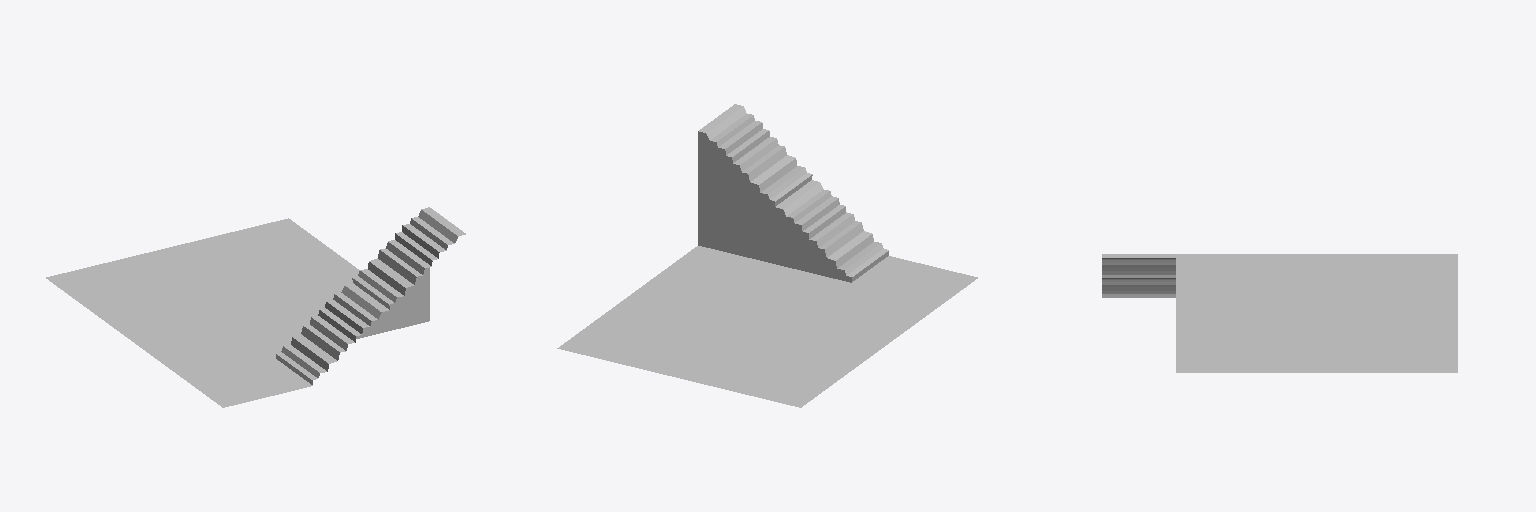
The picture shows the model from 3 angles: view 1: azimuth 30°, elevation 25°; view 2: azimuth 150°, elevation 25°; view 3: azimuth 270°, elevation 25°; orthographic projection.
Parts seen in each view (by area): view 1: visual; view 2: visual; view 3: visual.
Boxes of the visible parts, box(x1,y1,x2,y2) form: visual: box(46, 207, 465, 407); visual: box(557, 104, 977, 407); visual: box(1102, 254, 1457, 372).
Size of the model in its own units: 8.26 by 3.7 by 10.45.